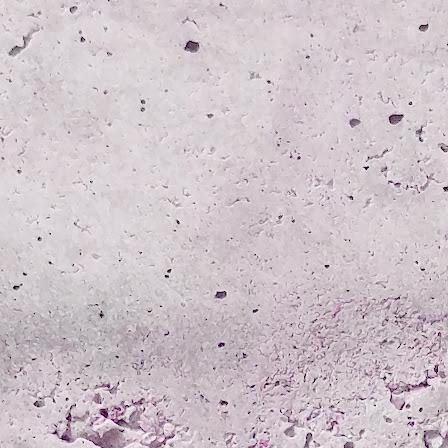spalling: (46, 375, 192, 447), (367, 334, 448, 416)
